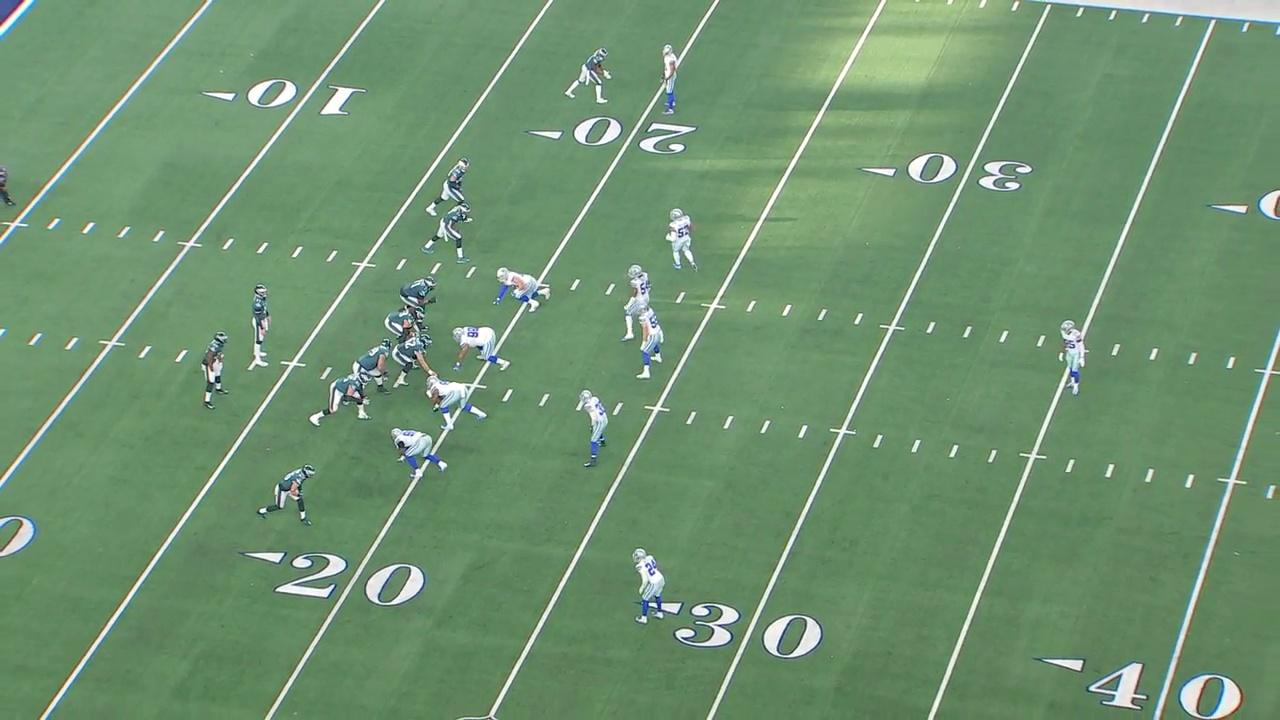defense: (426, 374, 487, 429), (390, 425, 447, 480), (448, 324, 509, 371), (631, 549, 667, 623), (494, 268, 550, 313), (578, 389, 608, 471), (1057, 321, 1086, 397), (636, 301, 664, 379), (665, 207, 698, 272), (624, 263, 649, 339), (658, 41, 681, 115)
oline: (312, 370, 374, 425), (390, 336, 439, 390), (354, 340, 391, 390), (387, 306, 428, 337), (402, 275, 441, 307)
qb: (251, 283, 270, 369)
skill: (258, 463, 316, 523), (422, 204, 470, 265), (566, 45, 612, 108), (424, 156, 471, 217), (199, 332, 230, 412)
